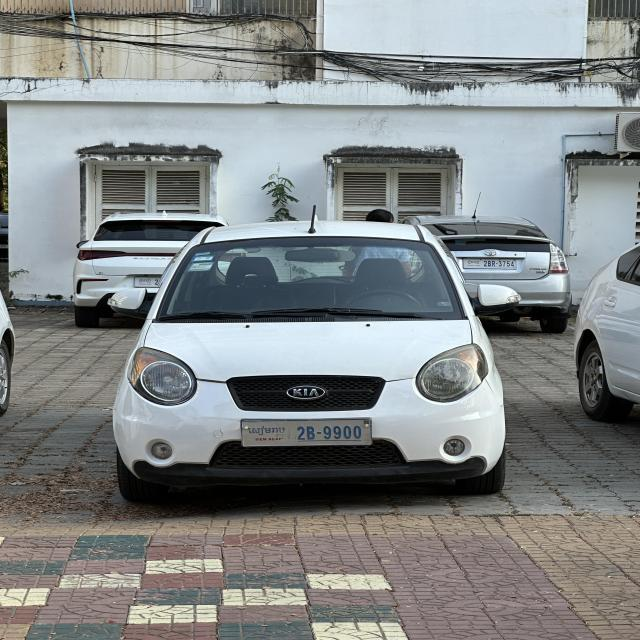Siem_Reap: (247, 424, 287, 437)
